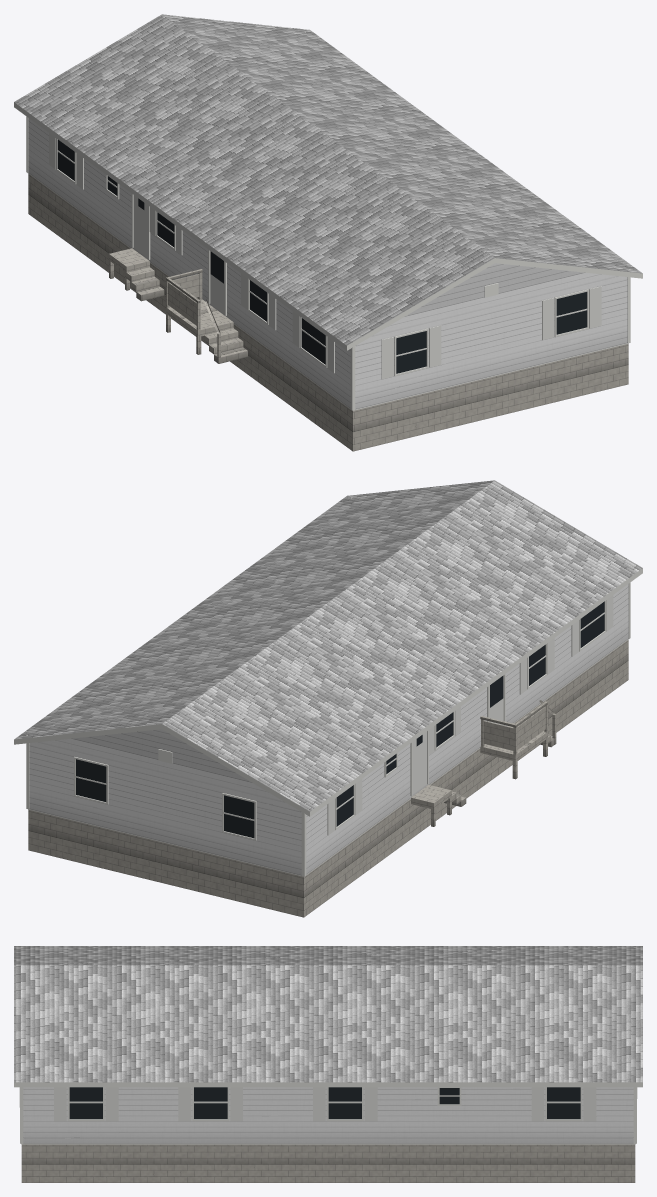
The model's file is mobile-double.glb.
The picture shows the model from 3 angles, top to bottom: view 1: azimuth 30°, elevation 25°; view 2: azimuth 150°, elevation 25°; view 3: azimuth 270°, elevation 25°; orthographic projection. The views are drawn at different scales.
Visible parts, largest first — view 1: Mobile_double; view 2: Mobile_double; view 3: Mobile_double.
Boxes of the visible parts, bbox=[...] form: Mobile_double: bbox=[14, 14, 642, 451]; Mobile_double: bbox=[14, 480, 642, 917]; Mobile_double: bbox=[14, 946, 642, 1182].
Size of the model in its own units: 10.48 by 5.05 by 18.7.
6 materials, 3 textured.
